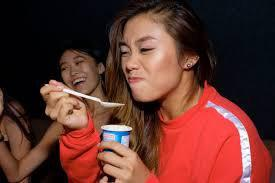Drunk: (117, 18, 173, 103), (57, 52, 96, 95)
